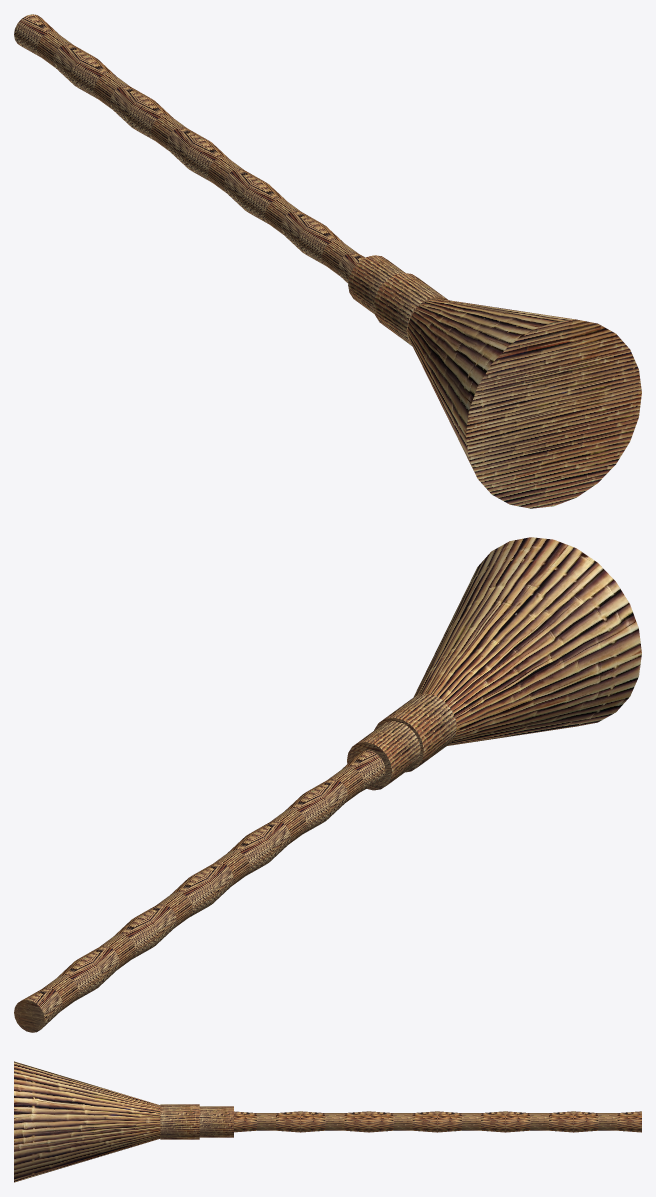
The model's file is JBroom_1.fbx.
The picture shows the model from 3 angles, top to bottom: view 1: azimuth 30°, elevation 25°; view 2: azimuth 150°, elevation 25°; view 3: azimuth 270°, elevation 25°; orthographic projection. The views are drawn at different scales.
Visible parts, largest first — view 1: Cone001, Cylinder042, Cylinder002, Cylinder001, Cylinder041, Cylinder004, Cylinder003, Cylinder005, Cylinder043; view 2: Cone001, Cylinder041, Cylinder042, Cylinder043, Cylinder001, Cylinder003, Cylinder004, Cylinder002, Cylinder005; view 3: Cone001, Cylinder042, Cylinder003, Cylinder004, Cylinder041, Cylinder002, Cylinder001, Cylinder005, Cylinder043.
Part boxes in pixels (x1,y1,x2,y2): Cone001: (407,298,641,508); Cylinder042: (373,273,448,346); Cylinder002: (128,97,207,168); Cylinder001: (71,56,150,126); Cylinder041: (14,14,93,84); Cylinder004: (242,181,320,251); Cylinder003: (185,139,264,209); Cylinder005: (299,222,365,283); Cylinder043: (348,255,405,314); Cone001: (413,537,641,745); Cylinder041: (14,958,101,1032); Cylinder042: (374,693,456,772); Cylinder043: (347,721,420,790); Cylinder001: (79,916,158,987); Cylinder003: (193,832,272,903); Cylinder004: (250,791,329,861); Cylinder002: (136,874,215,945); Cylinder005: (307,750,385,819); Cone001: (14,1061,160,1182); Cylinder042: (160,1104,199,1139); Cylinder003: (369,1111,437,1132); Cylinder004: (300,1111,368,1132); Cylinder041: (573,1111,641,1132); Cylinder002: (437,1111,505,1132); Cylinder001: (505,1111,573,1132); Cylinder005: (234,1111,300,1132); Cylinder043: (199,1106,233,1137).
Bounding box in the file's own units: 10.86 × 10.86 × 55.97.
1 material, 1 textured.
